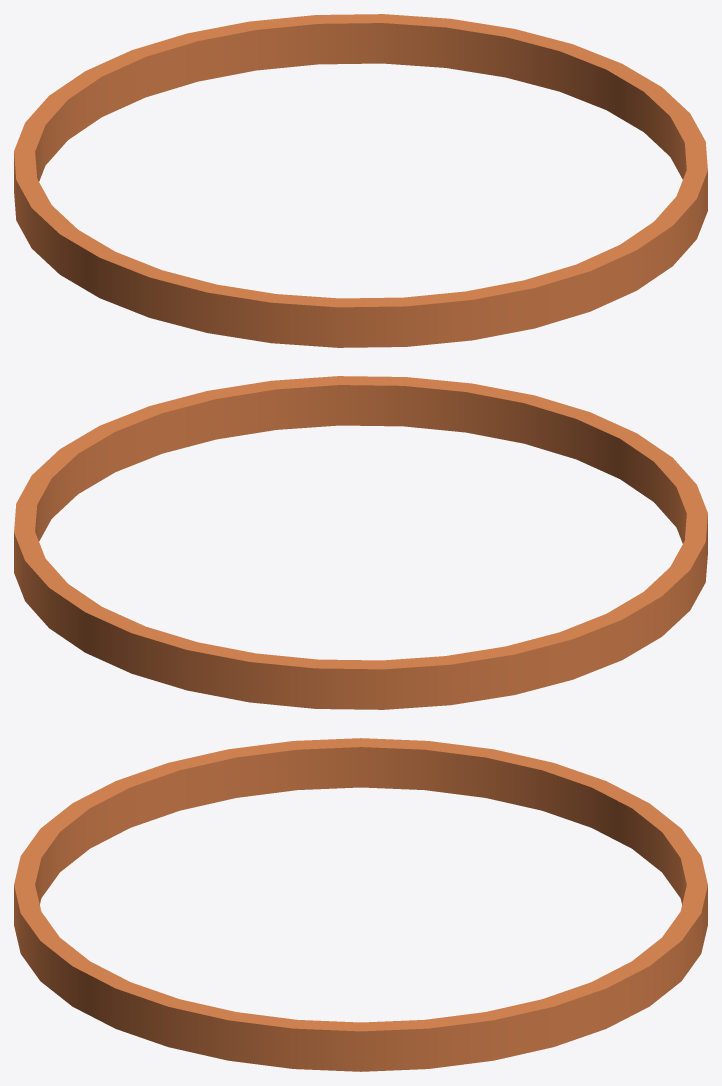
File: underbarrier.fbx
3 views of the same model, one above another, from view 1: azimuth 30°, elevation 25°; view 2: azimuth 150°, elevation 25°; view 3: azimuth 270°, elevation 25° (orthographic).
Parts seen in each view (by area): view 1: Circle; view 2: Circle; view 3: Circle.
Boxes of the visible parts, left/top/right/bottom form: Circle: left=14, top=14, right=707, bottom=347; Circle: left=14, top=376, right=707, bottom=709; Circle: left=14, top=738, right=707, bottom=1071.
Bounding box in the file's own units: 5000 × 321 × 5000.
